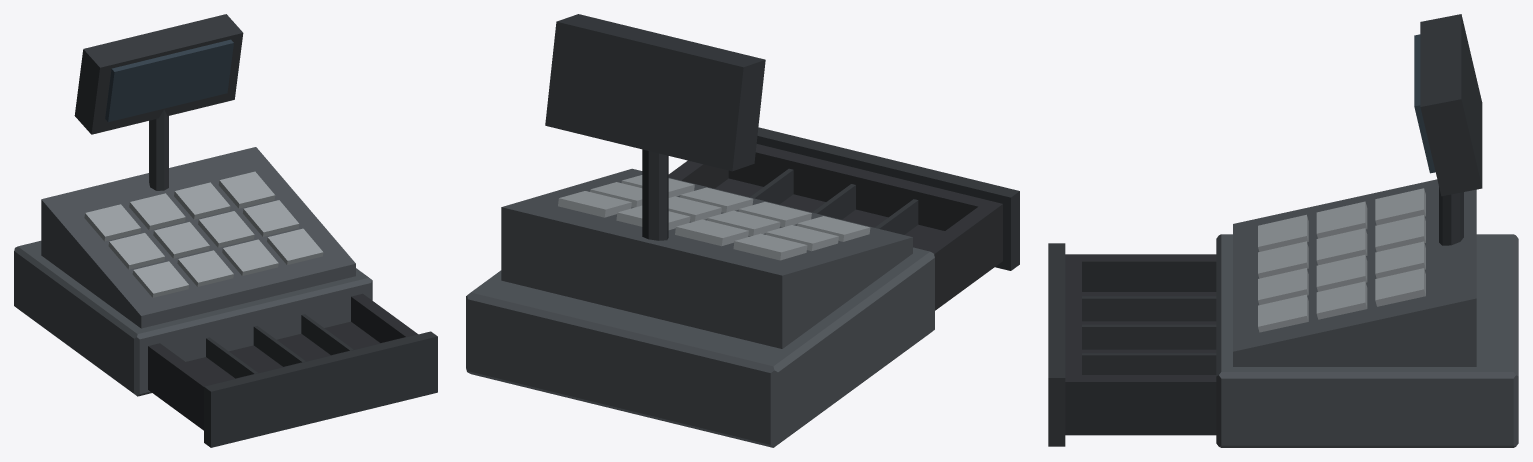
Rendered from caisse_enregistreuse.glb.
3 views of the same model, side by side, from view 1: azimuth 30°, elevation 25°; view 2: azimuth 150°, elevation 25°; view 3: azimuth 270°, elevation 25° (orthographic). The views are drawn at different scales.
Visible parts, largest first — view 1: keypad, base, keys, drawer_front, drawer, display, screen, dividers, stalk; view 2: base, keypad, display, drawer, keys, drawer_front, dividers, stalk; view 3: base, keypad, drawer, keys, dividers, display, drawer_front, stalk, screen.
Boxes of the visible parts, box(x1,y1,x2,y2) form: keypad: box(41, 147, 355, 328); base: box(14, 240, 372, 396); keys: box(84, 171, 323, 297); drawer_front: box(204, 331, 437, 447); drawer: box(148, 293, 418, 430); display: box(74, 14, 243, 134); screen: box(105, 39, 233, 122); dividers: box(206, 314, 353, 378); stalk: box(149, 109, 168, 190); base: box(466, 247, 934, 447); keypad: box(501, 168, 912, 348); display: box(545, 14, 765, 171); drawer: box(668, 144, 1002, 310); keys: box(558, 175, 870, 260); drawer_front: box(756, 127, 1019, 270); dividers: box(750, 168, 918, 234); stalk: box(642, 149, 668, 240); base: box(1216, 234, 1518, 447); keypad: box(1233, 179, 1476, 366); drawer: box(1065, 254, 1216, 435); keys: box(1258, 188, 1425, 332); dividers: box(1082, 296, 1216, 374); display: box(1420, 14, 1482, 196); drawer_front: box(1048, 243, 1065, 446); stalk: box(1439, 187, 1463, 245); screen: box(1414, 34, 1435, 173).
Size of the model in its own units: 0.4 by 0.4239 by 0.56.
Materials: 5 (5 with a texture image).
